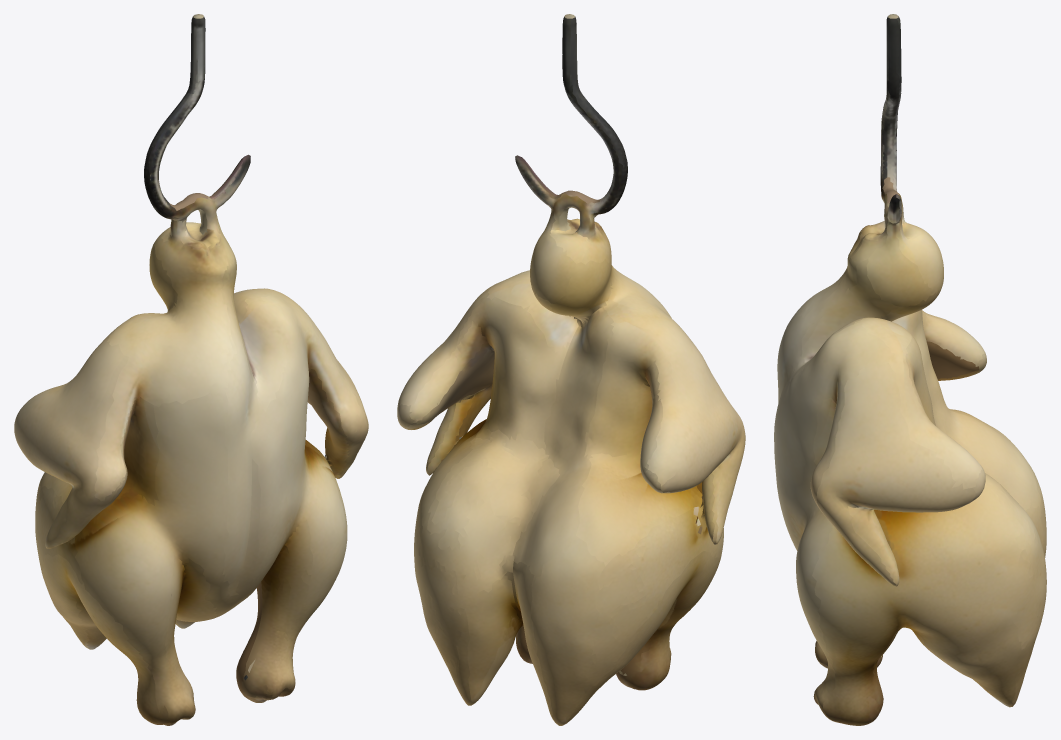
File: 43cb55f1-885d-4678-a98e-793ff8ebd1f8_textured_mesh.glb
3 views of the same model, side by side, from view 1: azimuth 30°, elevation 25°; view 2: azimuth 150°, elevation 25°; view 3: azimuth 270°, elevation 25° (orthographic).
Parts seen in each view (by area): view 1: tmp7tsxetni.ply; view 2: tmp7tsxetni.ply; view 3: tmp7tsxetni.ply.
Part boxes in pixels (x1,y1,x2,y2): tmp7tsxetni.ply: (14,14,368,725); tmp7tsxetni.ply: (397,14,745,725); tmp7tsxetni.ply: (774,14,1046,725).
Size of the model in its own units: 0.8956 by 1.96 by 0.7037.
1 material, 1 textured.
